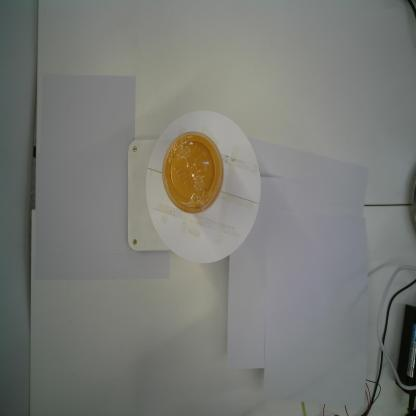Instant Drink: (162, 129, 224, 215)
